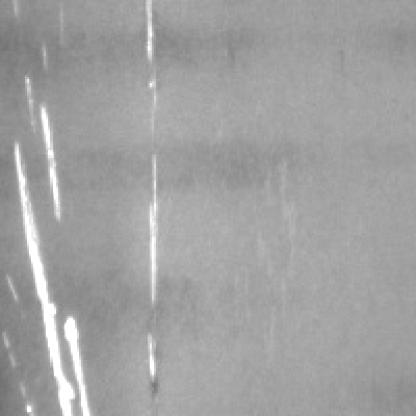scratches: (9, 112, 88, 416), (130, 4, 166, 391)
